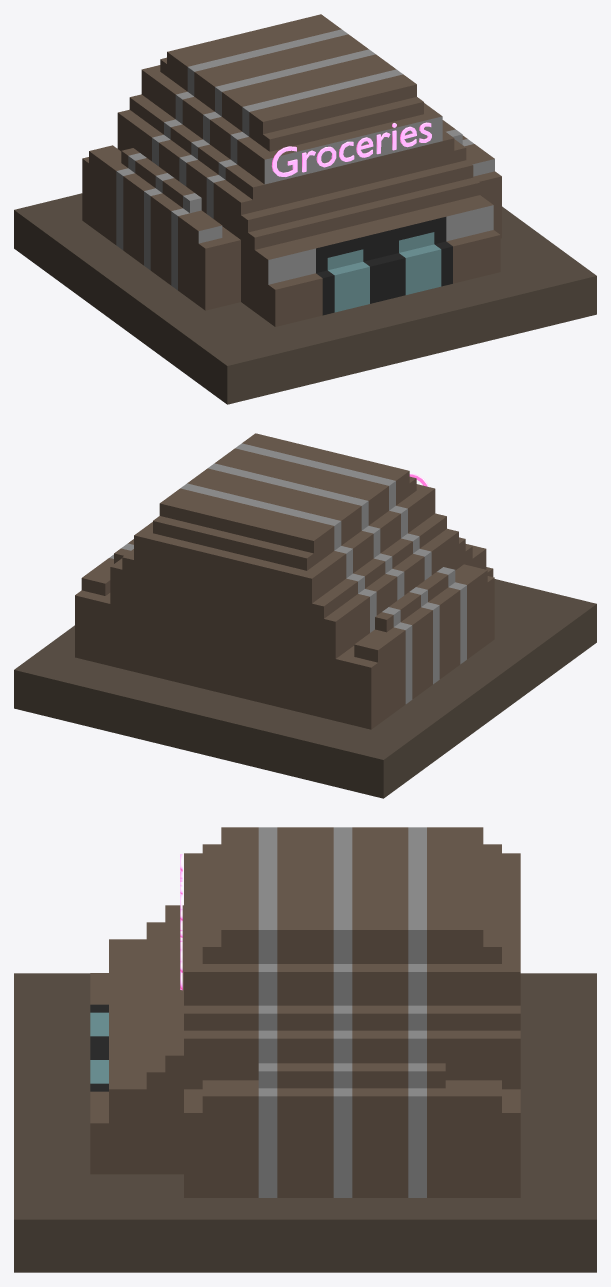
The model's file is groceries.glb.
3 views of the same model, one above another, from view 1: azimuth 30°, elevation 25°; view 2: azimuth 150°, elevation 25°; view 3: azimuth 270°, elevation 25° (orthographic). The views are drawn at different scales.
Visible parts, largest first — view 1: Cube.6239; view 2: Cube.6239; view 3: Cube.6239.
Part boxes in pixels (bbox=[...]): Cube.6239: bbox=[14, 14, 596, 404]; Cube.6239: bbox=[14, 433, 596, 798]; Cube.6239: bbox=[14, 827, 596, 1272].
Size of the model in its own units: 1 by 0.5171 by 1.
